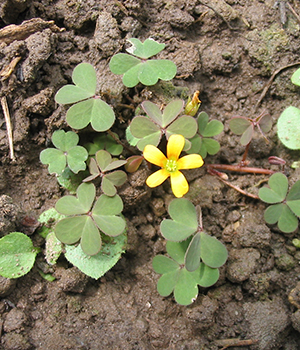oxalis: (38, 53, 285, 297)
